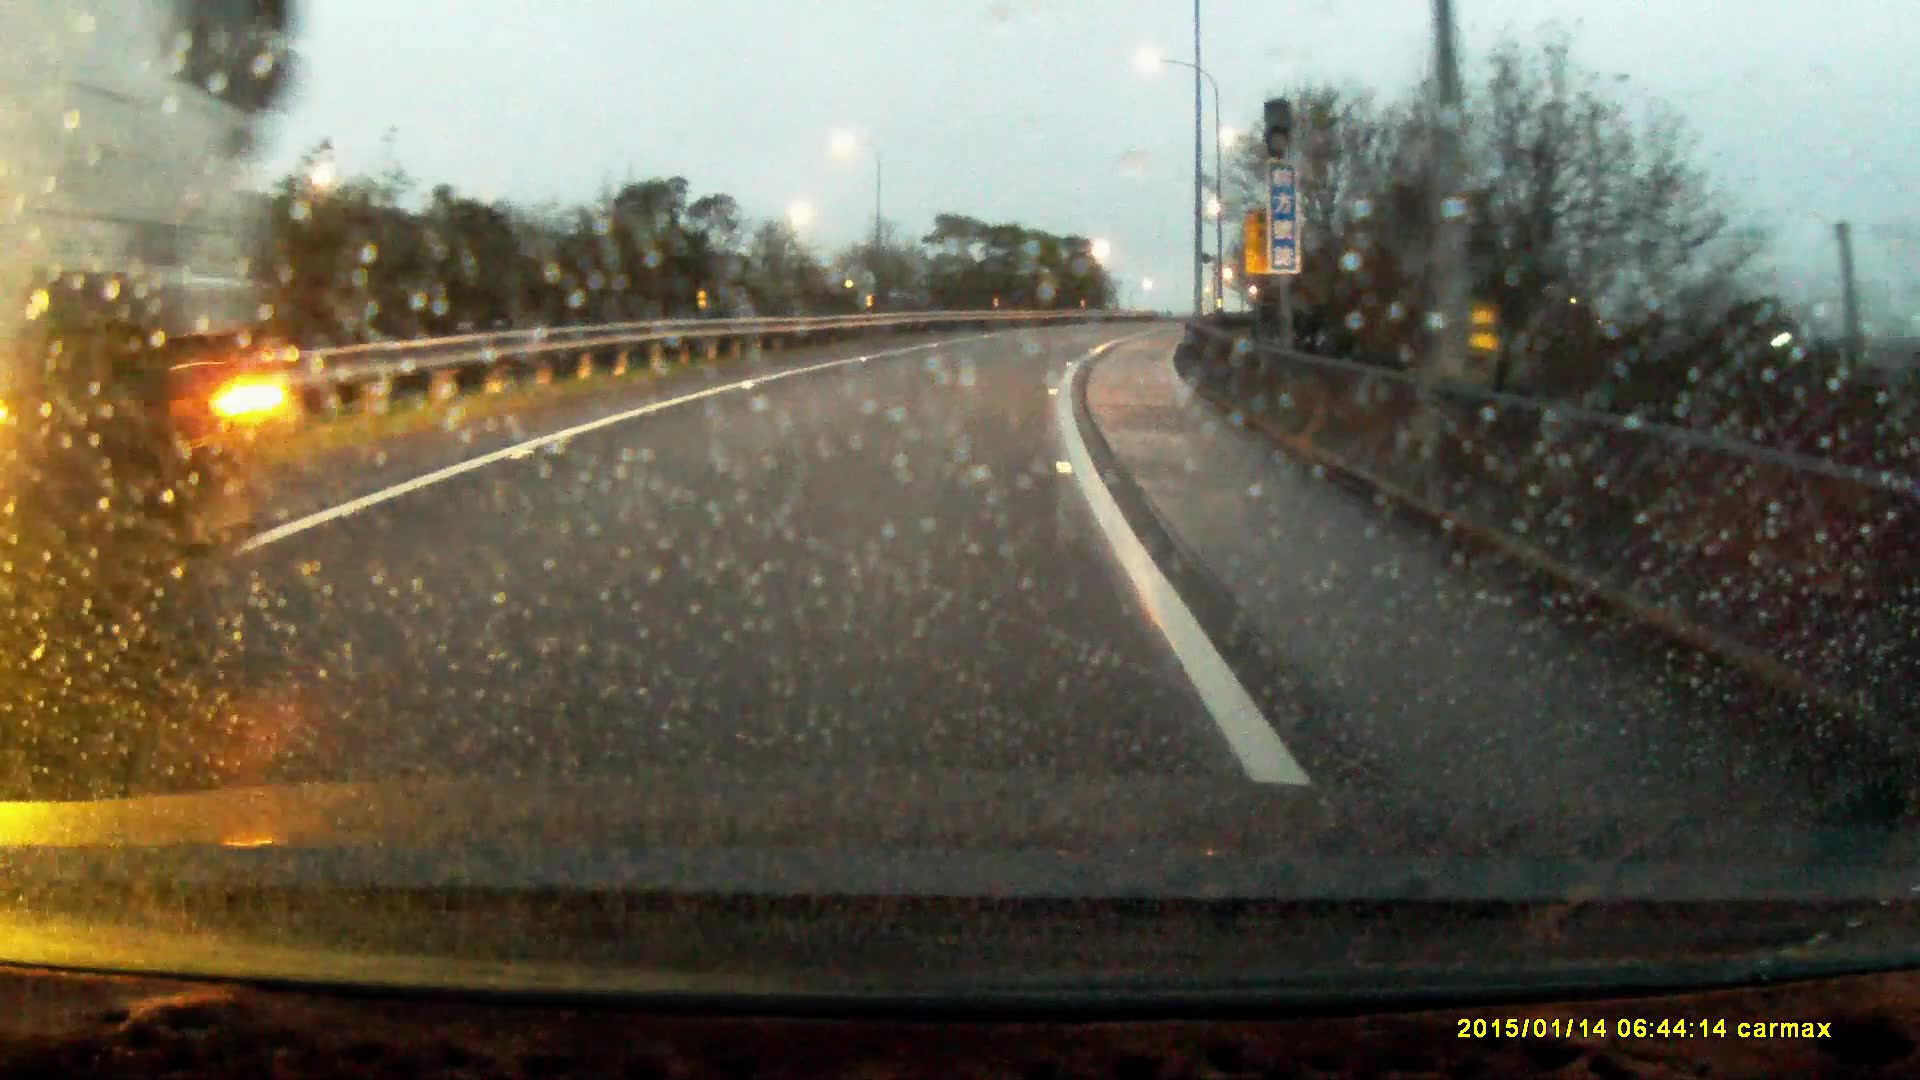vehicle: (1, 1, 284, 647)
